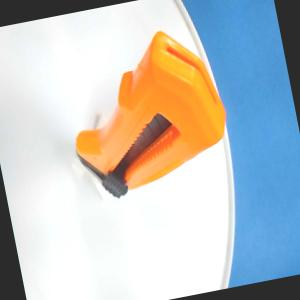estilete: (56, 20, 237, 204)
